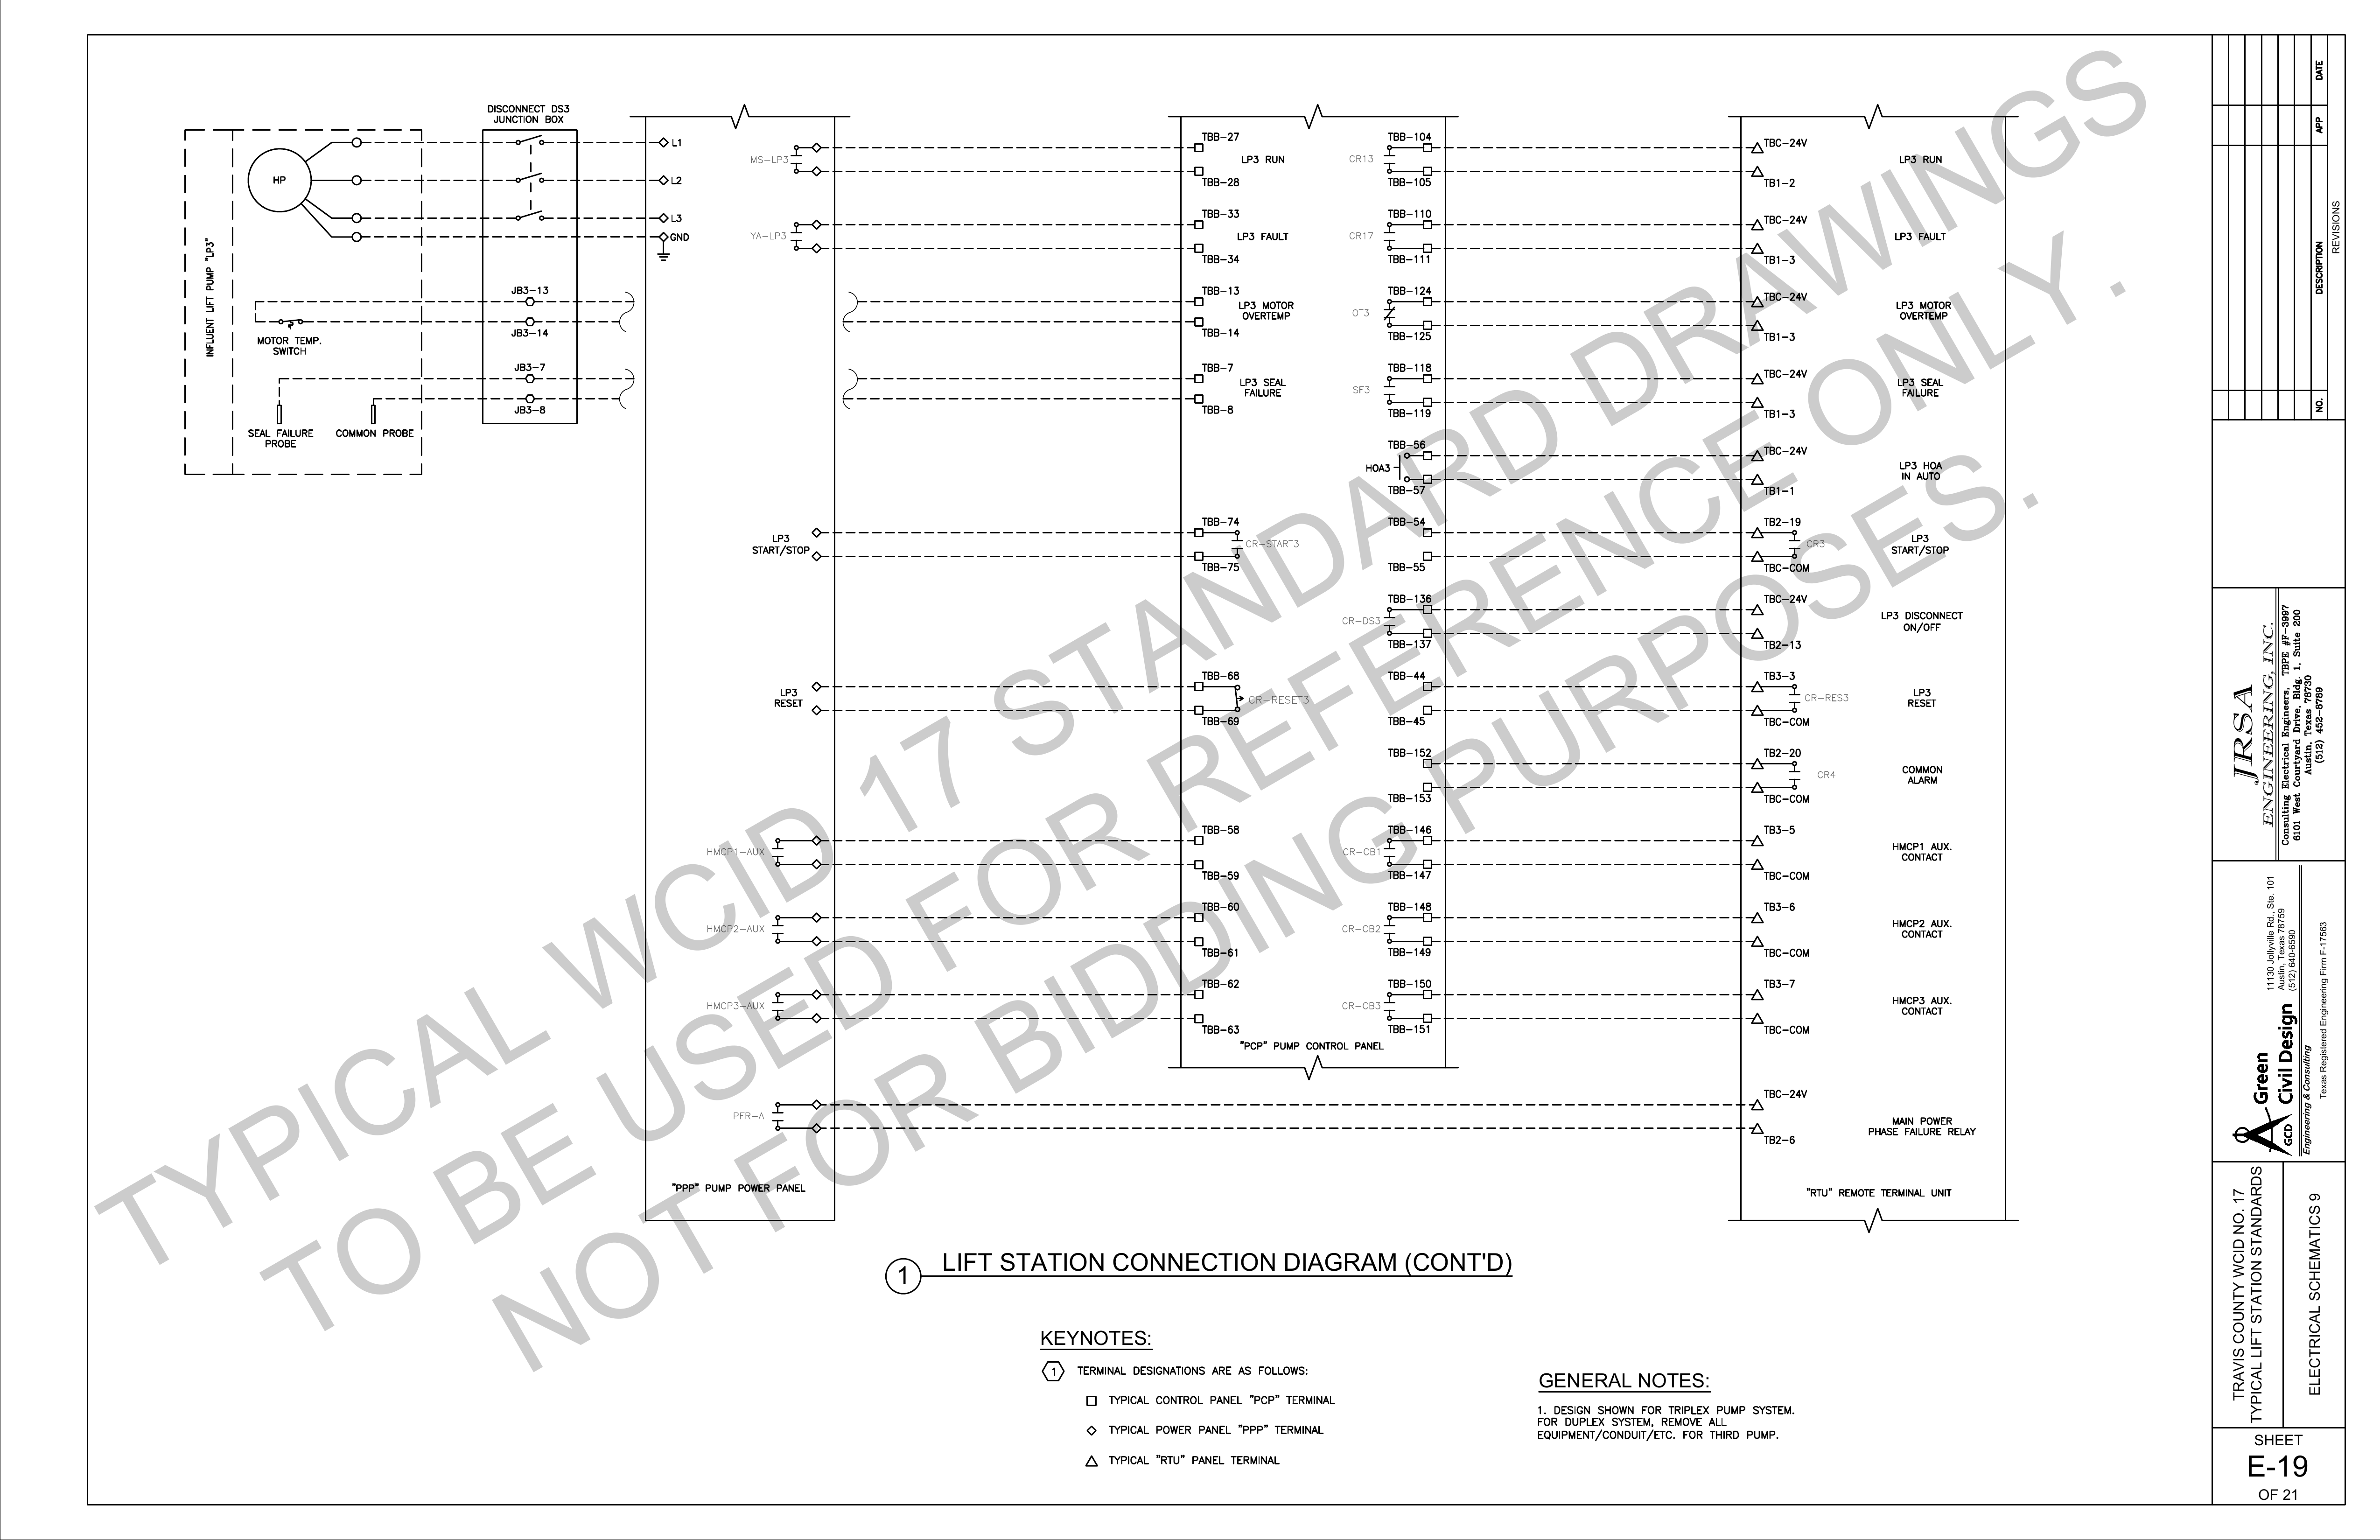ground: (651, 250, 683, 267)
switch: (503, 125, 564, 158), (505, 203, 560, 232), (505, 166, 553, 192), (267, 307, 311, 335)
